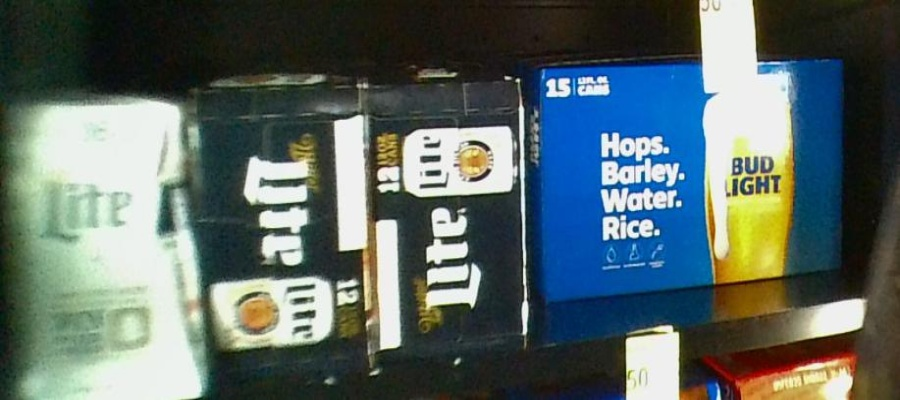bottle: (533, 55, 842, 277), (8, 95, 203, 400), (197, 84, 373, 373), (370, 80, 533, 345)
